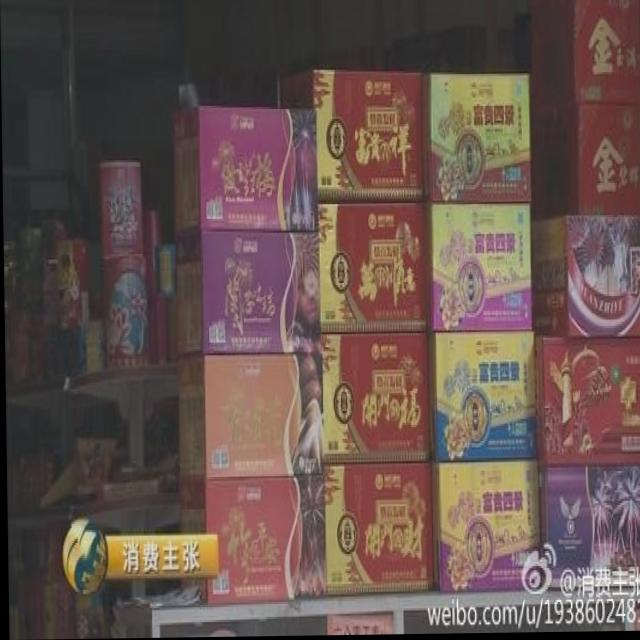box: (275, 69, 430, 203), (173, 106, 318, 239), (179, 476, 324, 605), (177, 354, 322, 482), (175, 232, 320, 357), (322, 464, 432, 596), (318, 203, 427, 335), (427, 333, 536, 463), (320, 334, 428, 465), (430, 462, 538, 593), (426, 202, 531, 334), (534, 338, 640, 468), (536, 462, 640, 592), (530, 217, 640, 339), (428, 75, 531, 203), (530, 0, 640, 117), (530, 107, 640, 223)
